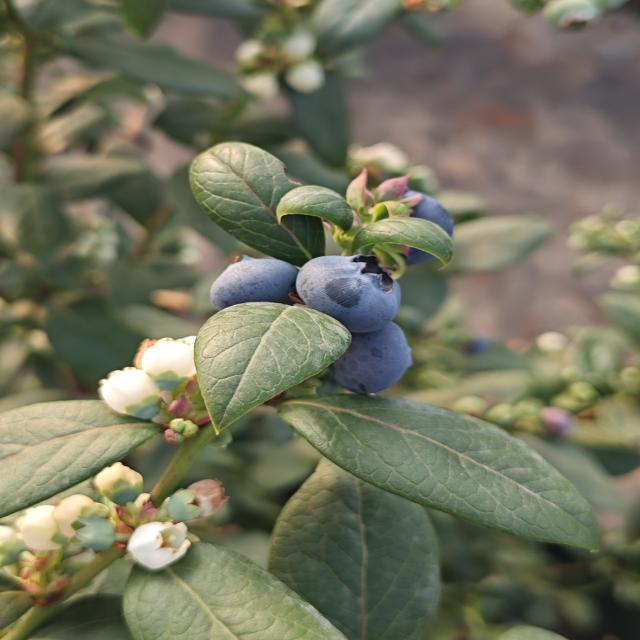ripe: (292, 252, 403, 335), (365, 182, 460, 270), (328, 320, 415, 397), (207, 256, 300, 312), (530, 408, 576, 440), (454, 329, 491, 363)
